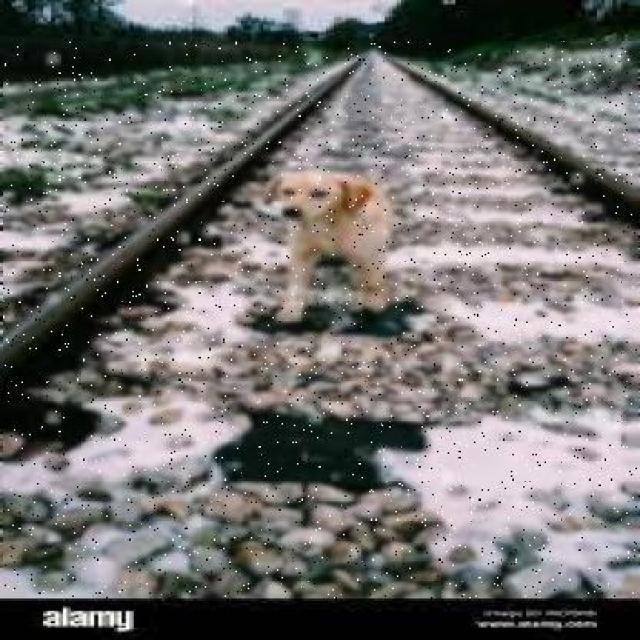danger: (248, 170, 420, 322)
rail: (4, 40, 637, 598)
